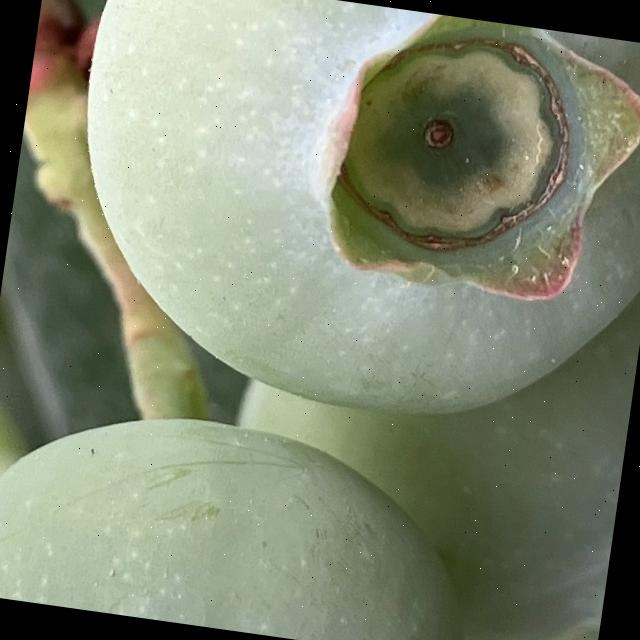Blueberries: (38, 0, 640, 448), (0, 383, 501, 640)
